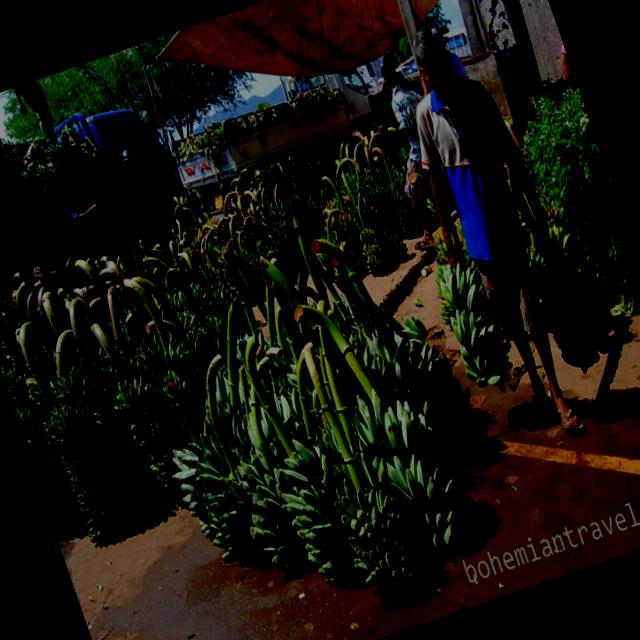Vehicle: (0, 86, 196, 299), (159, 44, 385, 198)
